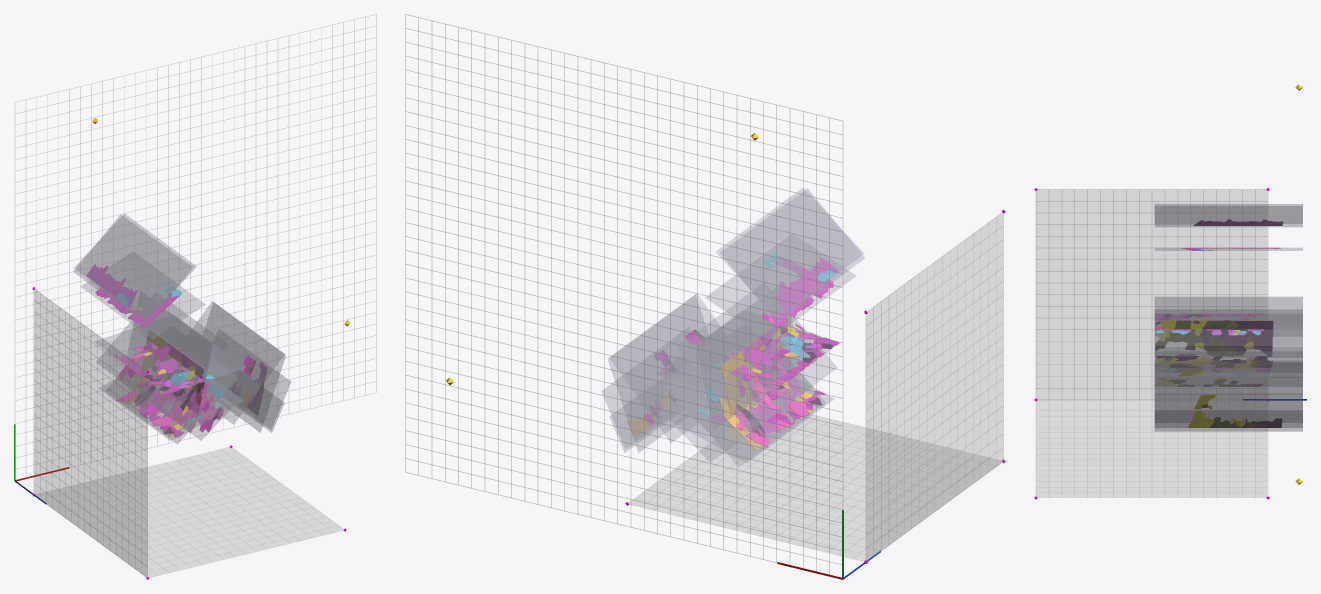
Rendered from shards.obj.
3 renders of one model, left to right at view 1: azimuth 30°, elevation 25°; view 2: azimuth 150°, elevation 25°; view 3: azimuth 270°, elevation 25°, orthographic. The views are drawn at different scales.
Parts seen in each view (by area): view 1: wall_A, wall_B, grid_floor, M, panel_S13, panel_S11, panel_S5, panel_S8, panel_S9, panel_S0, panel_S3, panel_S2 (+10 smaller); view 2: wall_A, wall_B, grid_floor, panel_S13, M, panel_S11, panel_S5, panel_S8, panel_S9, panel_S0, panel_S3, panel_S10 (+10 smaller); view 3: wall_A, wall_B, panel_S9, K, panel_S3, panel_S8, panel_S6, grid_wallA, panel_S5, Y, M, panel_S13 (+7 smaller).
Part boxes in pixels (x1,y1,x2,y2): wall_A: (34,290,147,576); wall_B: (36,447,343,577); grid_floor: (15,14,376,469); M: (86,264,267,437); panel_S13: (74,213,196,320); panel_S11: (96,304,228,415); panel_S5: (73,214,192,324); panel_S8: (193,301,284,424); panel_S9: (205,303,285,432); panel_S0: (94,321,245,394); panel_S3: (133,309,212,413); panel_S2: (80,280,205,339); wall_A: (866,213,1003,560); wall_B: (629,415,1001,560); grid_floor: (405,14,842,574); panel_S13: (716,188,863,317); M: (644,256,839,449); panel_S11: (677,292,837,431); panel_S5: (720,188,864,322); panel_S8: (609,294,719,442); panel_S9: (608,295,704,452); panel_S0: (656,317,839,406); panel_S3: (696,300,792,429); panel_S10: (665,363,825,466); wall_A: (1036,190,1267,399); wall_B: (1036,400,1267,497); panel_S9: (1155,363,1302,410); K: (1155,219,1283,427); panel_S3: (1155,297,1302,351); panel_S8: (1155,361,1302,393); panel_S6: (1155,394,1302,427); grid_wallA: (1036,189,1267,399); panel_S5: (1155,204,1302,226); Y: (1155,248,1281,427); M: (1155,219,1282,427); panel_S13: (1155,206,1302,223).
Bounding box in the file's own units: 3318 × 3318 × 2115.
